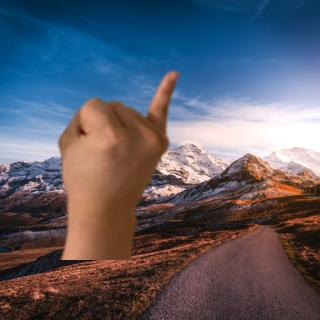FINE: (55, 65, 183, 216)
